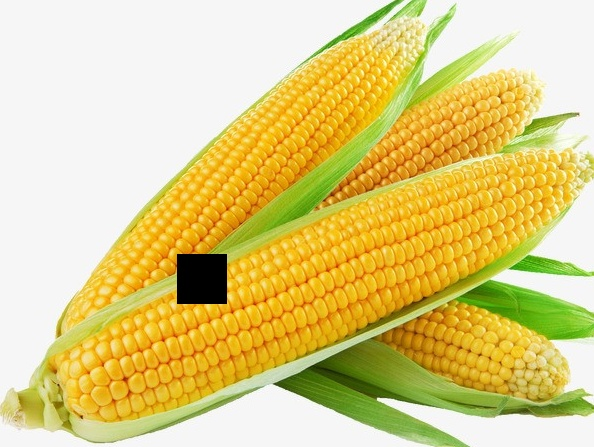corn: (49, 143, 589, 423), (66, 4, 425, 330)
